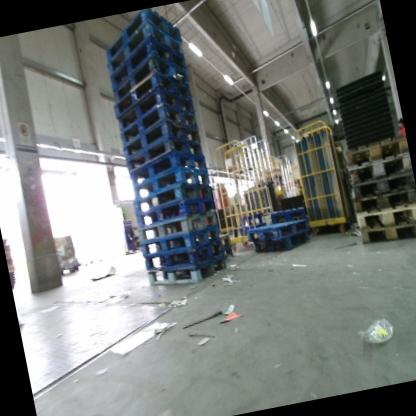pallet: (104, 34, 187, 86), (97, 6, 183, 56), (108, 49, 190, 100), (109, 66, 193, 115), (121, 111, 203, 161), (103, 18, 183, 69), (141, 238, 232, 280), (113, 82, 196, 128), (129, 160, 212, 205), (122, 130, 205, 175), (132, 177, 214, 220), (138, 201, 219, 244), (126, 144, 205, 188), (139, 223, 224, 262), (117, 99, 197, 140), (134, 196, 218, 235), (344, 142, 413, 188), (144, 252, 229, 289), (342, 131, 410, 169), (353, 195, 416, 233), (250, 223, 320, 257), (348, 168, 414, 201), (350, 184, 416, 215), (245, 213, 311, 244), (358, 214, 416, 249), (268, 202, 315, 225), (57, 260, 84, 279), (217, 241, 238, 264), (210, 233, 232, 252)
